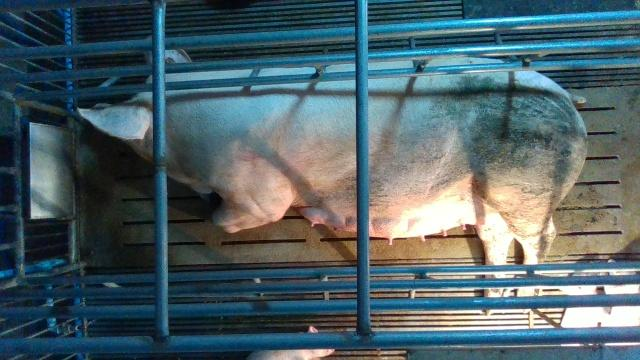piglet: (555, 283, 607, 346), (603, 258, 640, 346), (244, 326, 336, 359)
sow-sleep-lactate: (77, 33, 587, 315)
